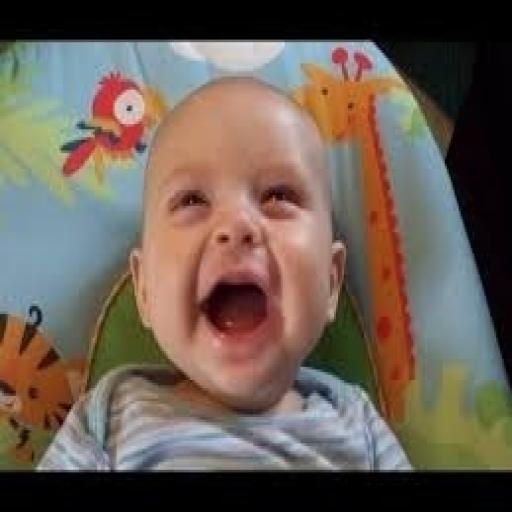laughing: (34, 63, 417, 470)
